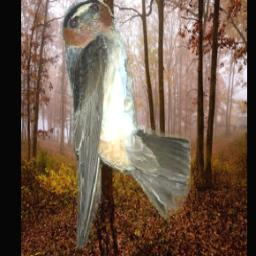Swallow: (60, 0, 191, 250)
